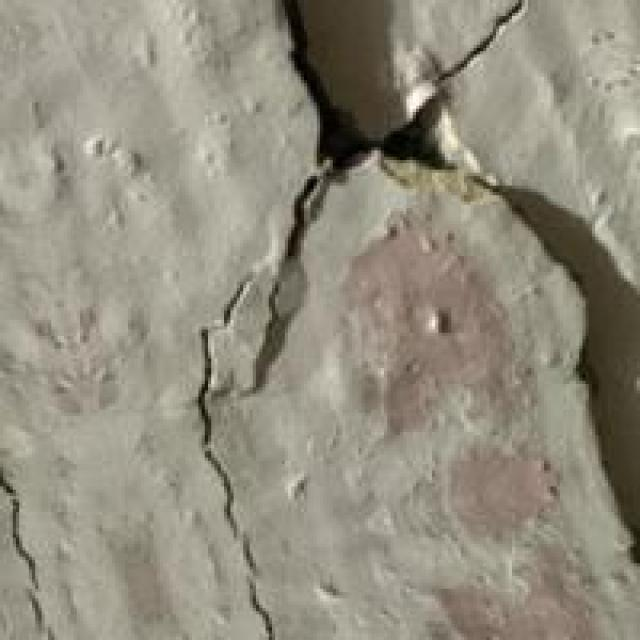crack: (170, 0, 604, 637)
